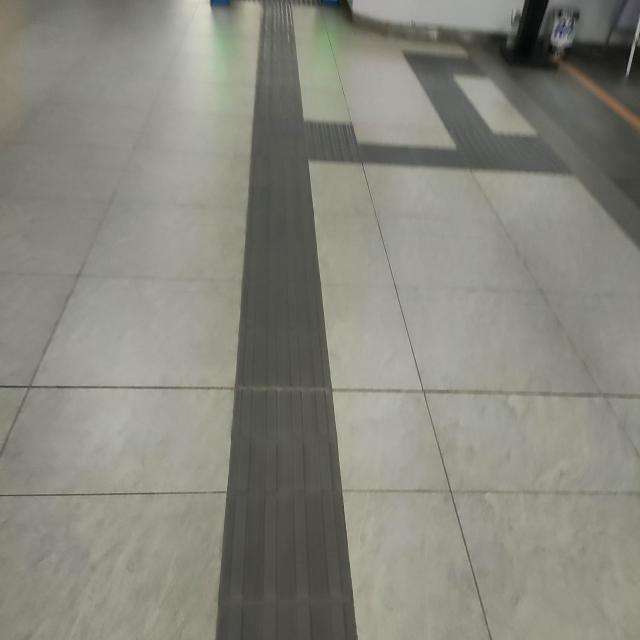lurus: (210, 159, 357, 639), (251, 15, 294, 117), (426, 82, 493, 142)
